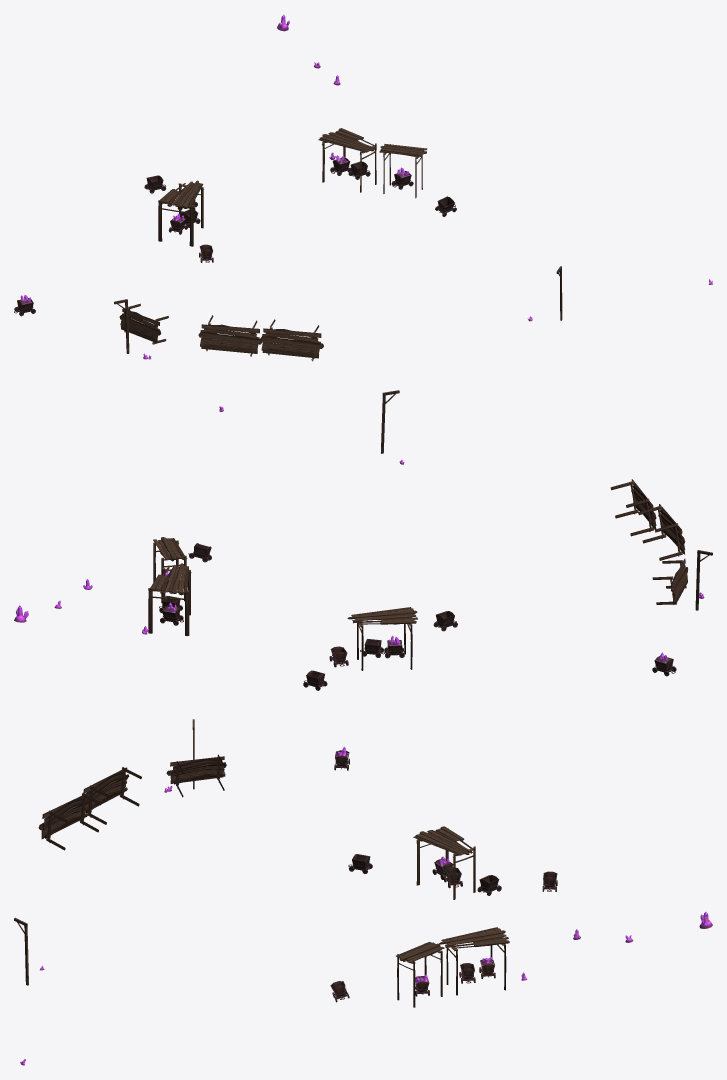
File: area_02_shuijing.FBX
3 renders of one model, top to bottom at view 1: azimuth 30°, elevation 25°; view 2: azimuth 150°, elevation 25°; view 3: azimuth 270°, elevation 25°, orthographic. The views are drawn at different scales.
Parts seen in each view (by area): view 1: area_02_shuijing; view 2: area_02_shuijing; view 3: area_02_shuijing.
Boxes of the visible parts, box(x1,y1,x2,y2) form: area_02_shuijing: box(14, 14, 712, 361); area_02_shuijing: box(14, 390, 712, 690); area_02_shuijing: box(14, 719, 712, 1065).
Size of the model in its own units: 8871 by 1283 by 8630.
